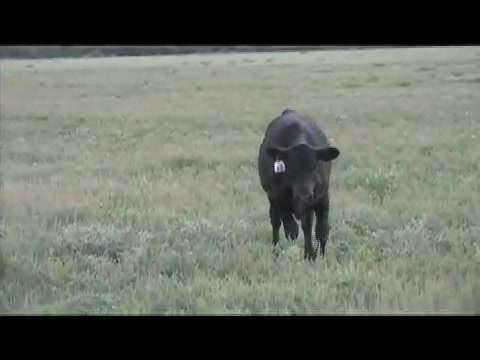cow: (257, 111, 339, 265)
